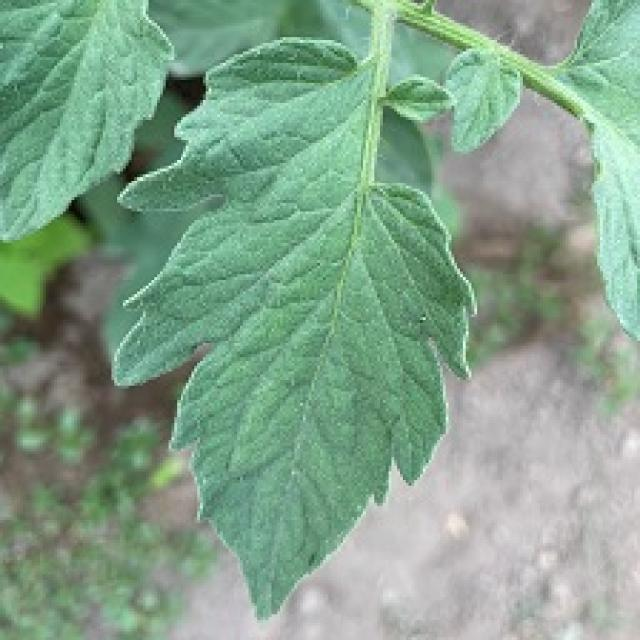Healthy: (28, 5, 554, 635), (0, 0, 172, 240), (441, 43, 529, 153)
